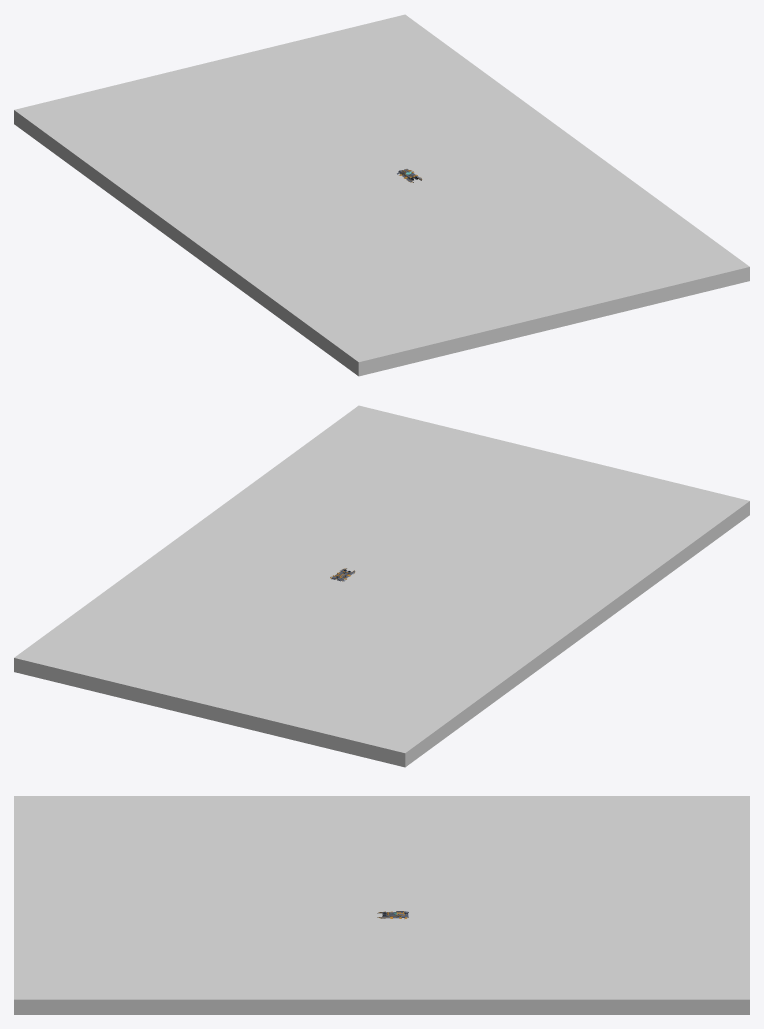
The model's file is RacingShipShortie.fbx.
The picture shows the model from 3 angles, top to bottom: view 1: azimuth 30°, elevation 25°; view 2: azimuth 150°, elevation 25°; view 3: azimuth 270°, elevation 25°; orthographic projection. The views are drawn at different scales.
Parts seen in each view (by area): view 1: Cube.003; view 2: Cube.003; view 3: Cube.003.
Boxes of the visible parts, bbox=[...] form: Cube.003: bbox=[14, 14, 749, 376]; Cube.003: bbox=[14, 405, 749, 767]; Cube.003: bbox=[14, 796, 749, 1014].
Bounding box in the file's own units: 11227 × 479 × 17137.
1 material, 1 textured.
